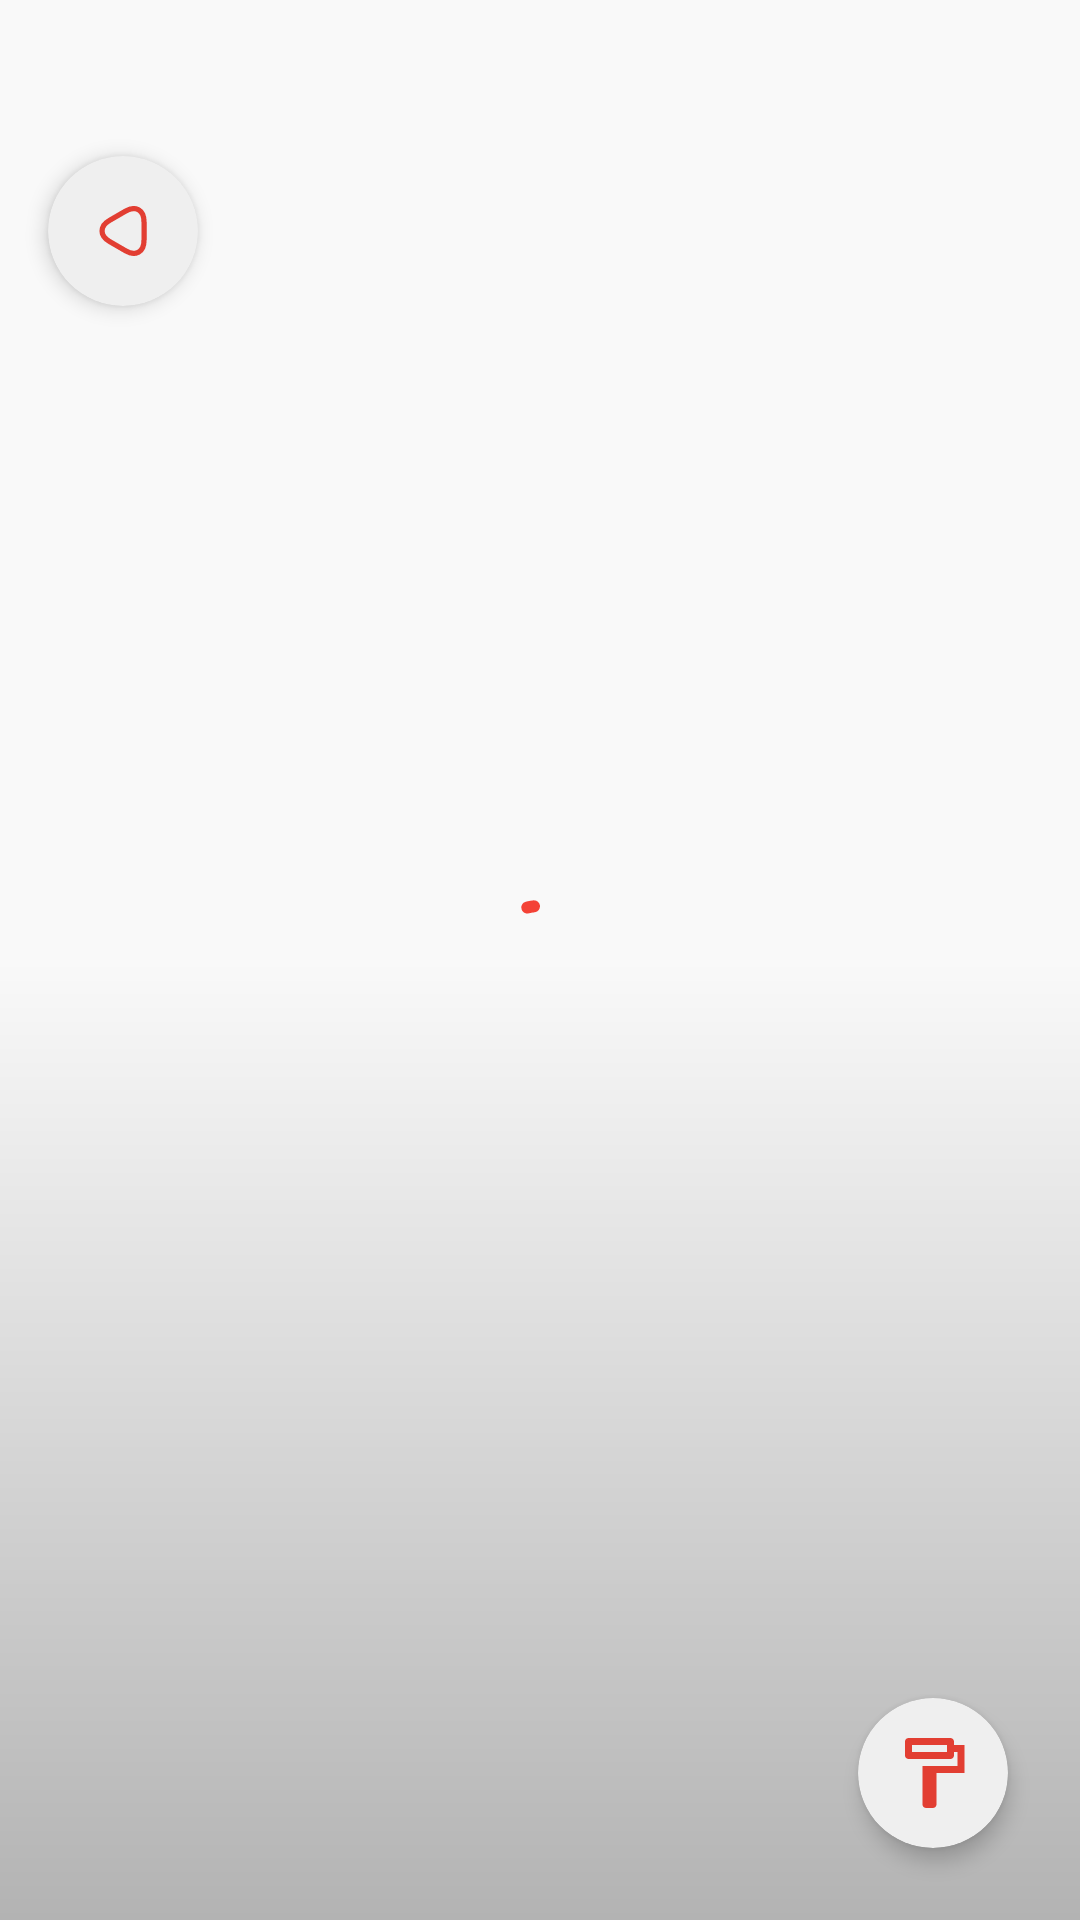

Screen size 1080 x 1920. Icon name, then its center in pixels as (x,y):
apply: (935,1773)
arrow left: (123,231)
